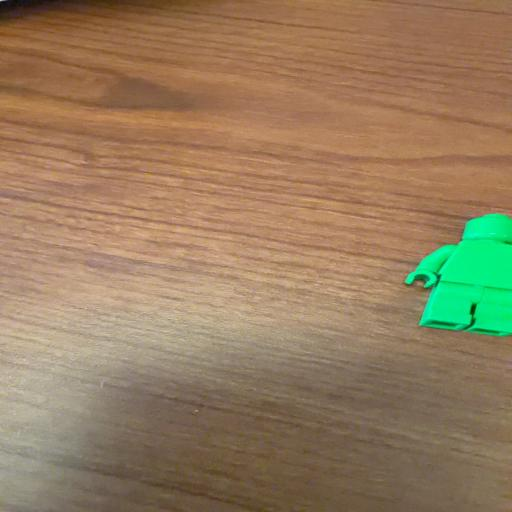UnoQ-minifig-detector: (405, 214, 512, 336)
